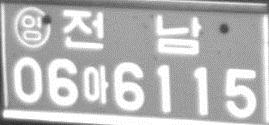0: (12, 55, 44, 105)
1: (186, 65, 218, 117), (150, 63, 181, 114)
5: (223, 68, 257, 119)
6: (111, 60, 146, 112), (46, 57, 79, 107)
아: (81, 64, 109, 105)
영: (13, 6, 52, 49)
전남_D: (61, 9, 201, 56)
